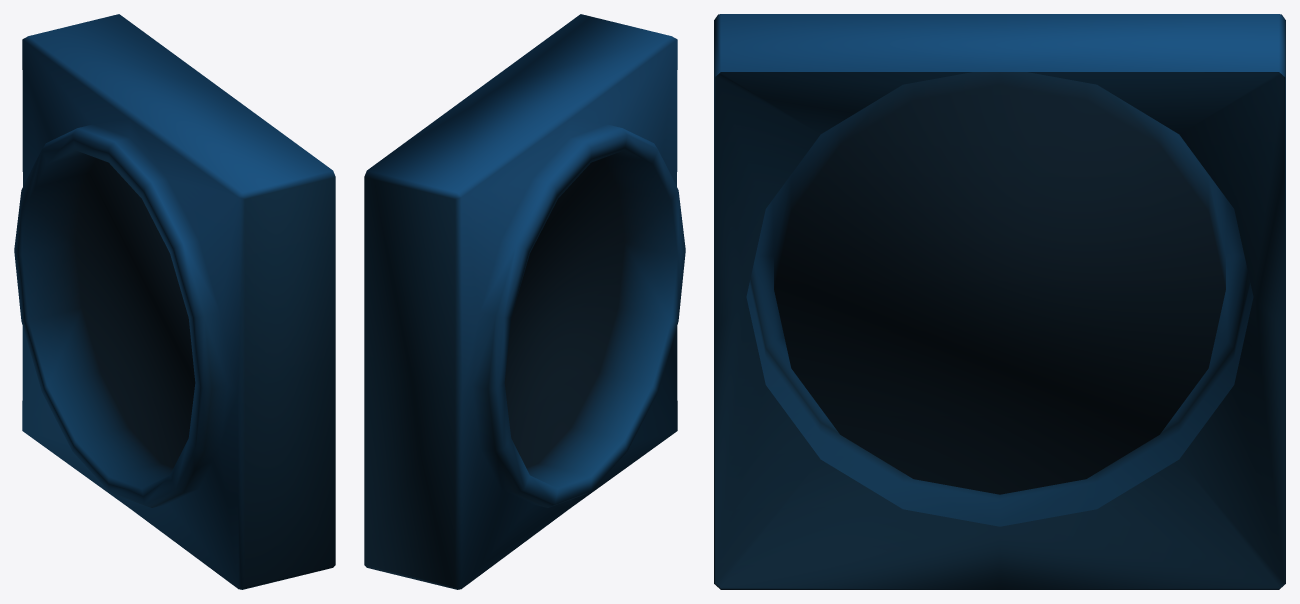
File: FanNight.fbx
3 renders of one model, left to right at view 1: azimuth 30°, elevation 25°; view 2: azimuth 150°, elevation 25°; view 3: azimuth 270°, elevation 25°, orthographic. The views are drawn at different scales.
Visible parts, largest first — view 1: FanNight; view 2: FanNight; view 3: FanNight.
Boxes of the visible parts, bbox=[...] form: FanNight: bbox=[14, 14, 335, 589]; FanNight: bbox=[364, 14, 685, 589]; FanNight: bbox=[714, 14, 1285, 589].
Bounding box in the file's own units: 48.67 × 157 × 157.
